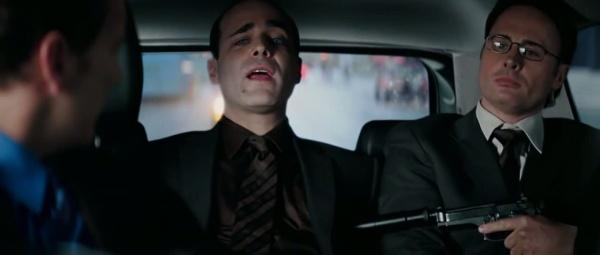Gun: (354, 193, 546, 242)
